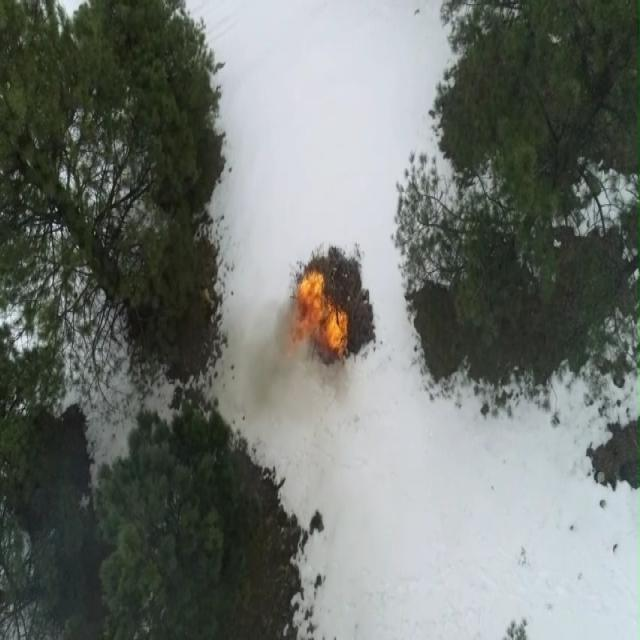Fire: (294, 273, 348, 348)
Smoke: (249, 306, 295, 410)
